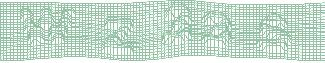3: (161, 3, 192, 46), (199, 10, 233, 49)
s: (255, 13, 294, 55)
w: (17, 6, 76, 47)
z: (99, 15, 135, 56)
